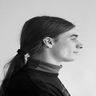ear: (40, 34, 57, 51)
